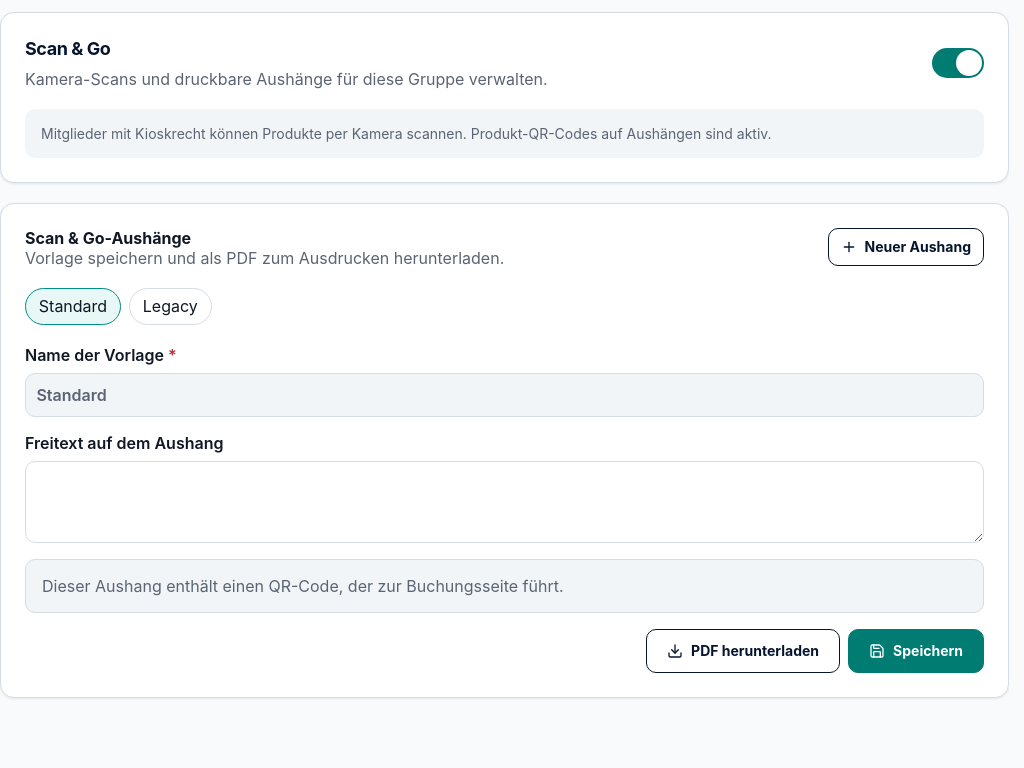
Scenario: KioskSettingsSection › blocks printing a legacy product poster until a product is added
Click the button "Legacy": (170, 306) [129, 288, 212, 325]
(page scrolled)
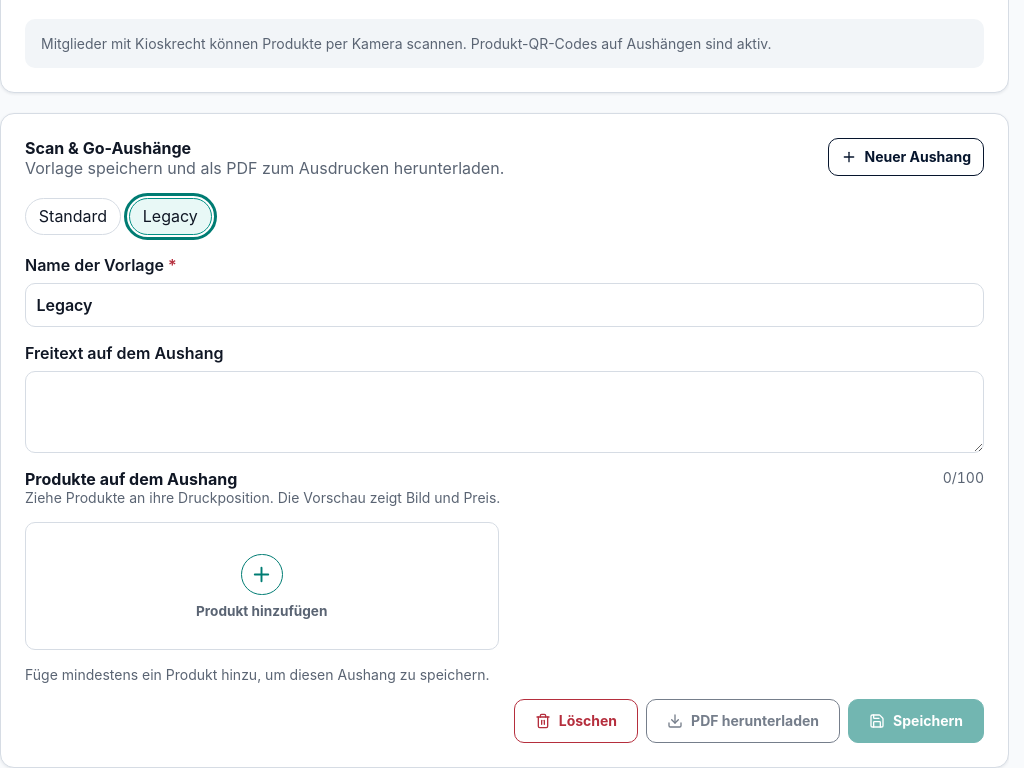
Check: the text "Füge mindestens ein Produkt hinzu, um diesen Aushang zu speichern." is shown, box [25, 666, 490, 684]
Check: the button "PDF herunterladen" is disabled, box [646, 700, 840, 744]
Check: the button "Speichern" is disabled, box [848, 700, 984, 744]
